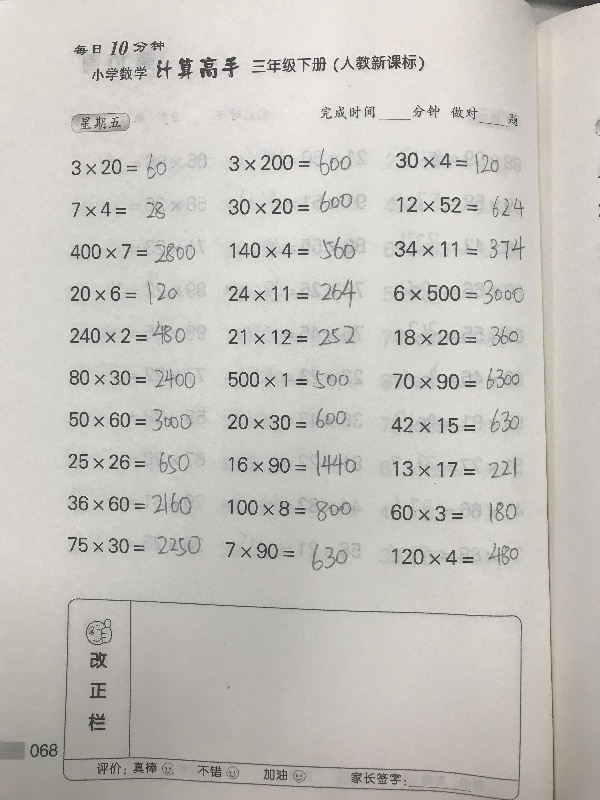equation: (223, 276, 360, 312), (226, 144, 356, 180), (390, 276, 529, 309), (225, 447, 361, 480), (391, 232, 529, 264), (387, 404, 520, 437), (388, 455, 519, 488), (65, 449, 208, 479), (222, 539, 350, 572), (65, 532, 206, 561), (66, 405, 196, 436), (227, 234, 360, 264), (223, 492, 355, 522), (64, 487, 195, 517), (389, 365, 524, 394), (389, 538, 519, 568), (391, 321, 523, 350), (224, 188, 356, 217), (67, 317, 190, 348), (65, 363, 199, 391), (224, 322, 358, 350), (67, 239, 200, 267), (67, 277, 182, 309), (394, 190, 529, 217), (223, 405, 353, 433), (386, 498, 517, 525), (68, 149, 171, 183), (67, 195, 170, 229), (225, 366, 353, 393), (391, 149, 502, 176)
